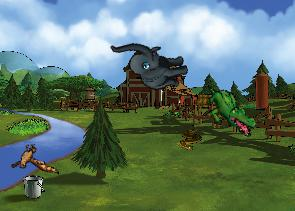crocodile: (195, 83, 264, 138)
eagle: (7, 139, 59, 182)
elephant: (110, 28, 191, 99)
